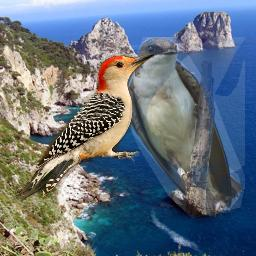Swallow: (124, 37, 245, 218)
Woodpecker: (14, 53, 154, 203)
